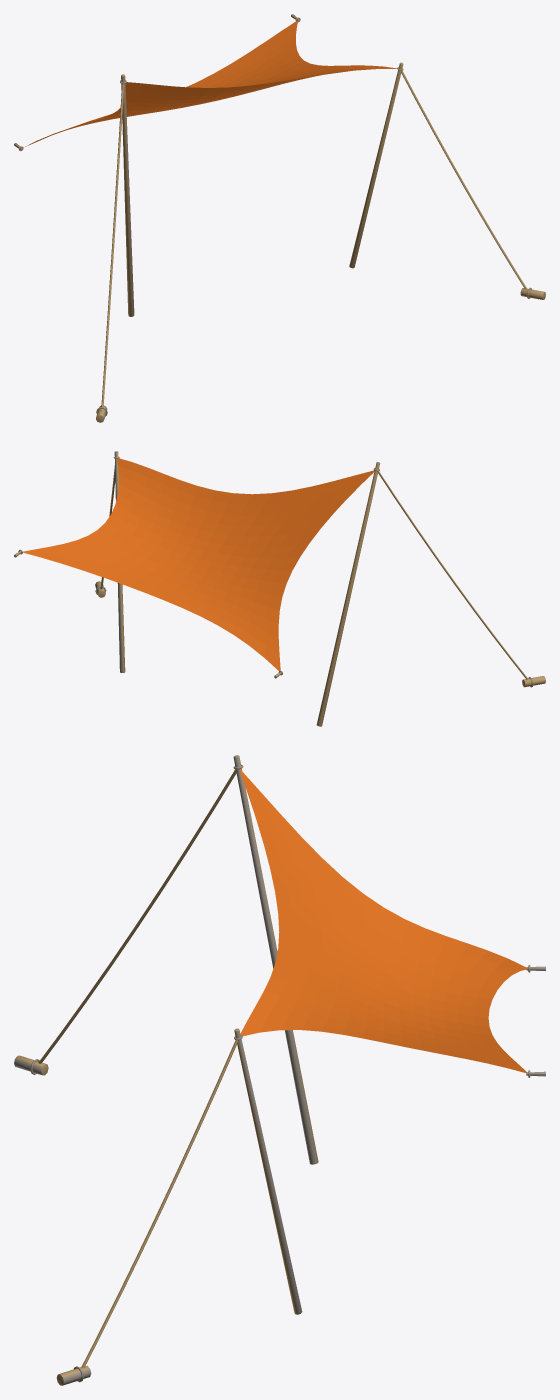
File: nomad_sail_wall_billow.fbx
3 renders of one model, top to bottom at view 1: azimuth 30°, elevation 25°; view 2: azimuth 150°, elevation 25°; view 3: azimuth 270°, elevation 25°, orthographic. The views are drawn at different scales.
Parts seen in each view (by area): view 1: S17_Canopy, S17_Mast1_SailRig_MastPole, S17_Mast_SailRig_MastPole, S17_Guy1, S17_Guy; view 2: S17_Canopy, S17_Mast1_SailRig_MastPole, S17_Mast_SailRig_MastPole, S17_Guy1; view 3: S17_Canopy, S17_Mast1_SailRig_MastPole, S17_Mast_SailRig_MastPole, S17_Guy, S17_Guy1.
Boxes of the visible parts, <box> form: S17_Canopy: <box>23,20,397,147</box>; S17_Mast1_SailRig_MastPole: <box>120,74,134,316</box>; S17_Mast_SailRig_MastPole: <box>349,62,403,268</box>; S17_Guy1: <box>101,84,124,407</box>; S17_Guy: <box>401,70,527,289</box>; S17_Canopy: <box>23,458,374,670</box>; S17_Mast1_SailRig_MastPole: <box>316,462,380,726</box>; S17_Mast_SailRig_MastPole: <box>113,451,125,672</box>; S17_Guy1: <box>378,471,528,679</box>; S17_Canopy: <box>239,770,527,1072</box>; S17_Mast1_SailRig_MastPole: <box>233,755,318,1164</box>; S17_Mast_SailRig_MastPole: <box>234,1028,302,1314</box>; S17_Guy: <box>81,1040,237,1368</box>; S17_Guy1: <box>38,769,236,1063</box>.
Size of the model in its own units: 756 by 419 by 526.
